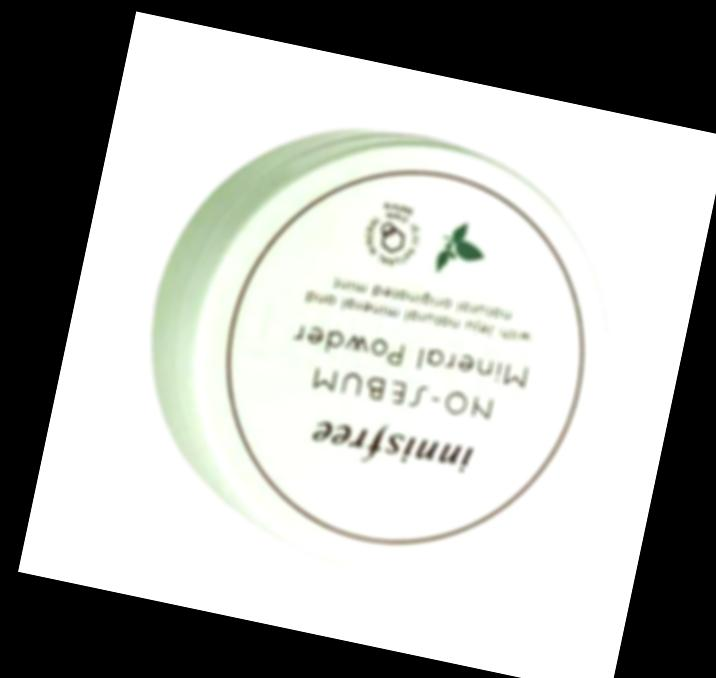cosmetic: (120, 99, 639, 604)
